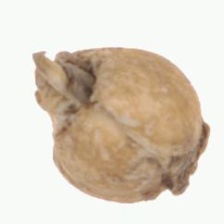L1: (155, 125, 206, 200), (33, 52, 93, 108)
L2: (32, 49, 210, 203)
